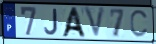7: (19, 5, 37, 37), (109, 8, 126, 39)
A: (60, 7, 88, 39)
C: (130, 9, 150, 40)
J: (44, 8, 59, 36)
V: (82, 6, 107, 40)
